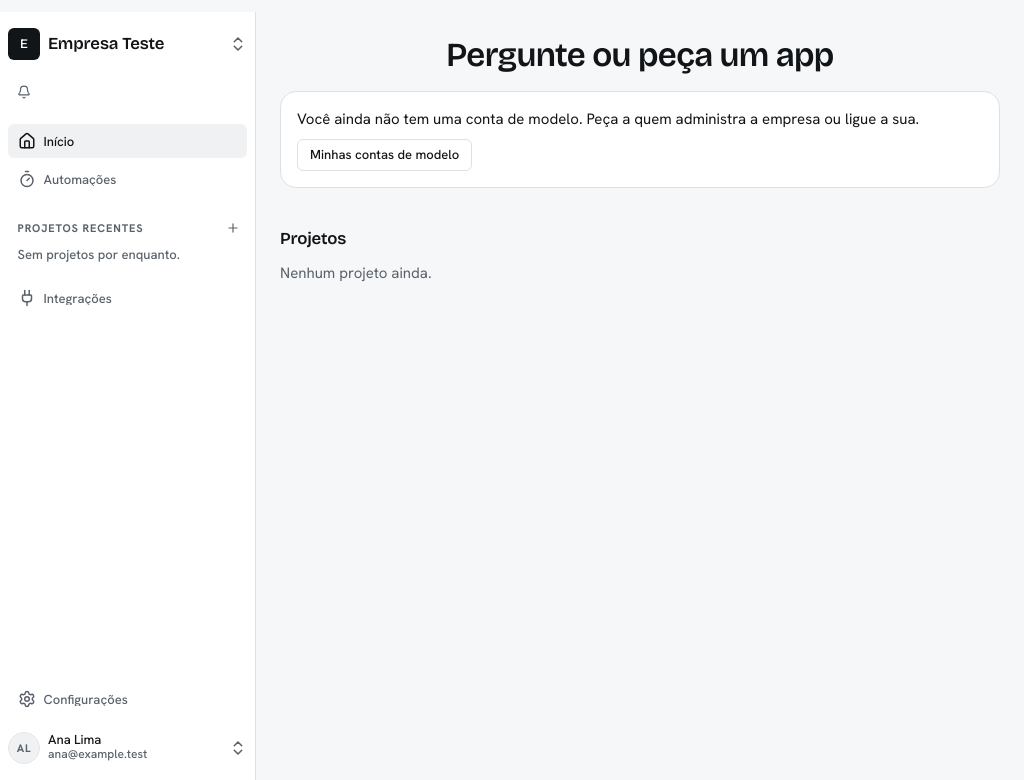
Test: com mais de uma empresa, a troca lista todas; escolher uma abre o Início dela
This screenshot has width=1024, height=780.
Click the button with aria-label "Trocar de empresa. Agora: Empresa Teste".
click(128, 44)  # box top-left (8, 20), bottom-right (247, 68)
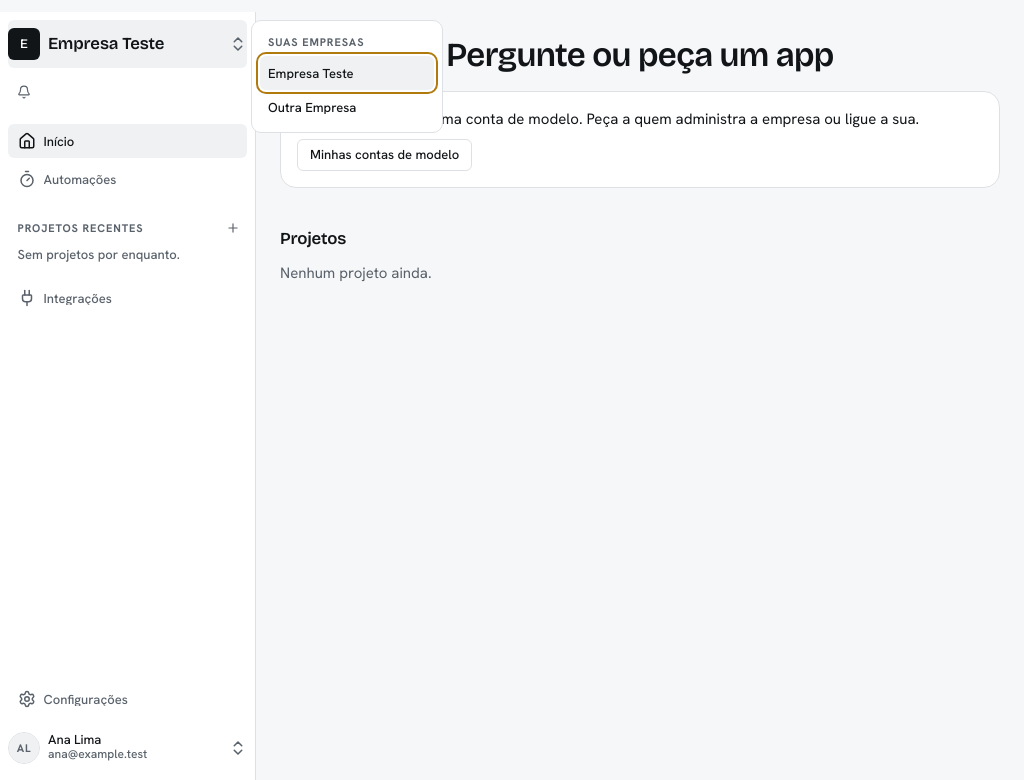
Result: the menu item "Empresa Teste" is shown at top-left (260, 56), bottom-right (434, 90)
Click the menu item "Outra Empresa".
click(312, 107)  # box top-left (268, 98), bottom-right (356, 116)
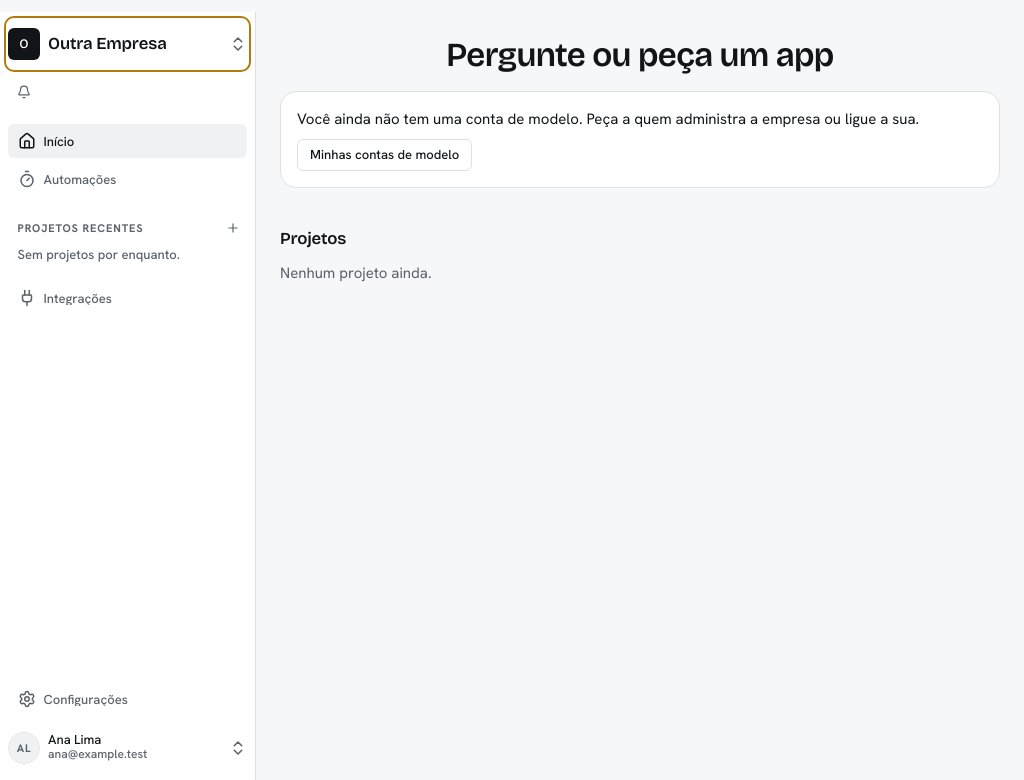
Expected: the heading "Pergunte ou peça um app" is shown, top-left (446, 35), bottom-right (834, 75)
Result: the button with aria-label "Trocar de empresa. Agora: Outra Empresa" is shown at top-left (8, 20), bottom-right (247, 68)
